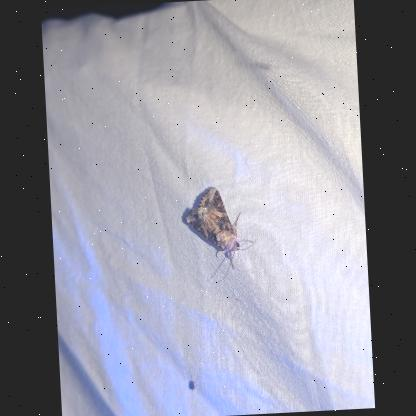Fall Armyworm Moth: (183, 183, 260, 284)
